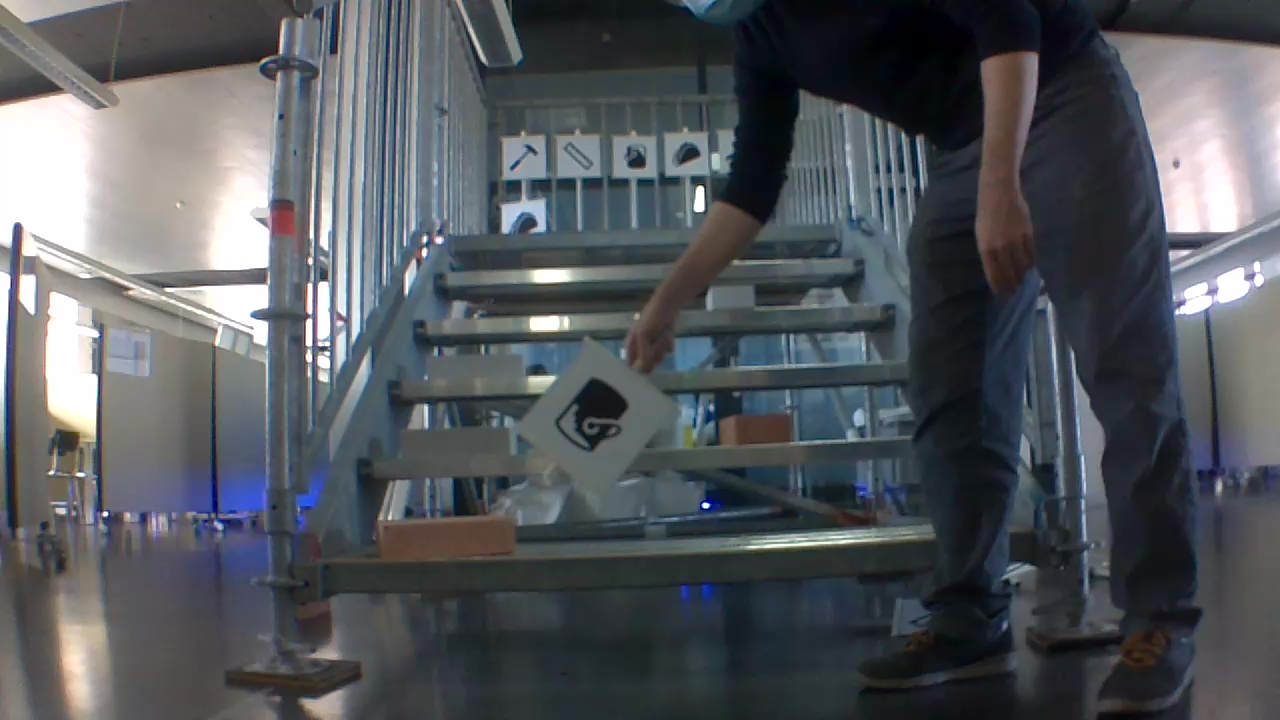brick: (374, 514, 512, 561), (403, 425, 516, 458), (428, 354, 524, 379), (721, 413, 791, 446), (708, 284, 753, 308)
bucket: (552, 372, 636, 460), (620, 139, 648, 172)
edge: (324, 531, 1037, 591)
hammer: (504, 137, 541, 173)
ruler: (559, 137, 595, 172)
taco: (670, 134, 704, 171), (506, 208, 540, 233)
